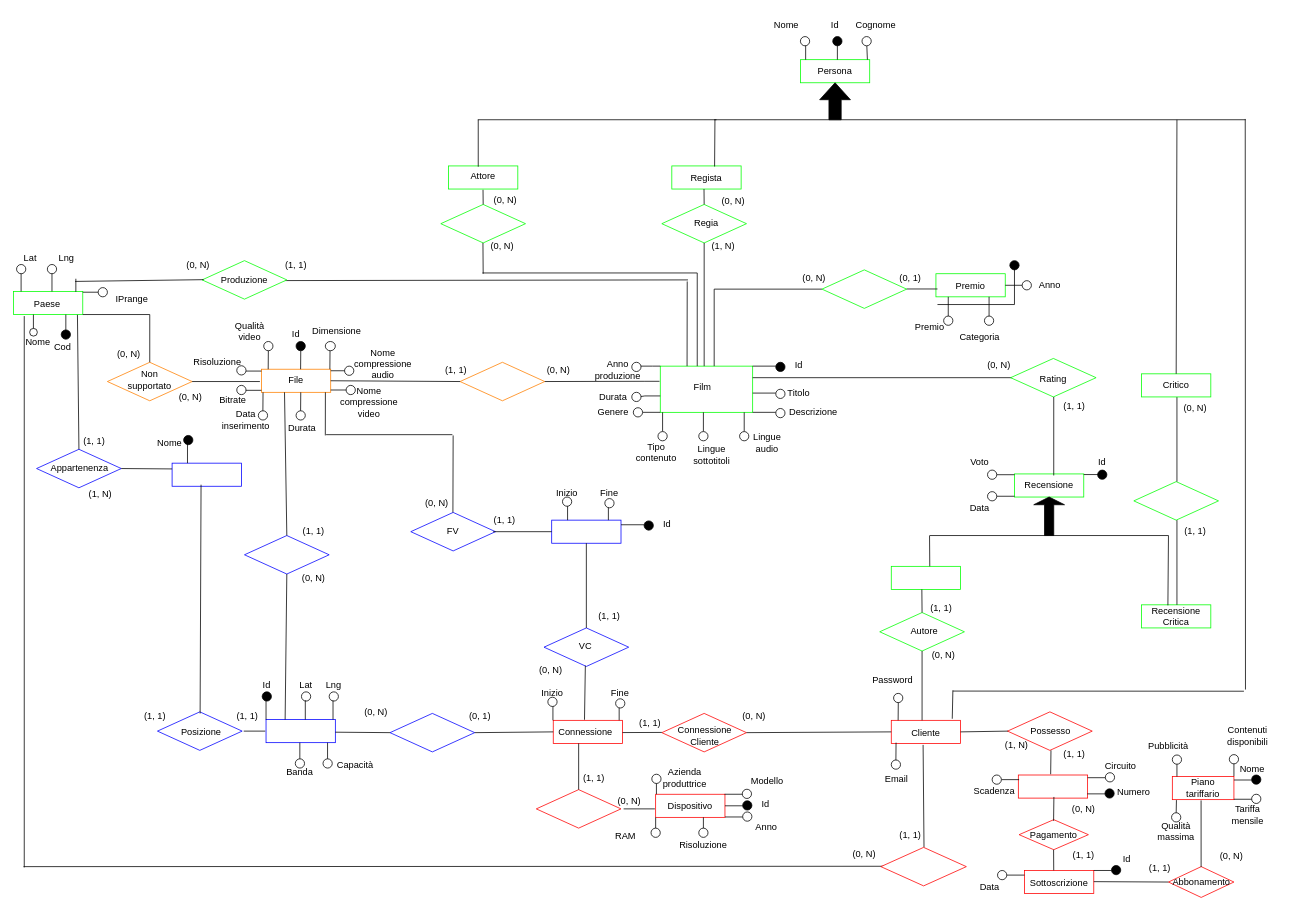
Image size: 1289x912. Some labels were removed from this diagram. The shapes that lost their labels are listed below. From the top down, each one's box as (x1, y1, x2, y2) in pixels, then its label:
(440, 204, 526, 243): Parte
(821, 269, 907, 308): Assegnazione
(459, 362, 545, 401): Codifica
(171, 462, 241, 486): Area Geografica
(1133, 481, 1219, 520): RC
(551, 519, 621, 543): Visualizzazione
(244, 535, 329, 574): Presenza
(891, 566, 961, 589): Recensione Cliente
(265, 719, 335, 743): Server
(389, 713, 475, 752): Connessione Server
(1018, 774, 1088, 798): Carta di credito
(536, 789, 621, 828): Mezzo
(880, 847, 966, 886): Residenza
